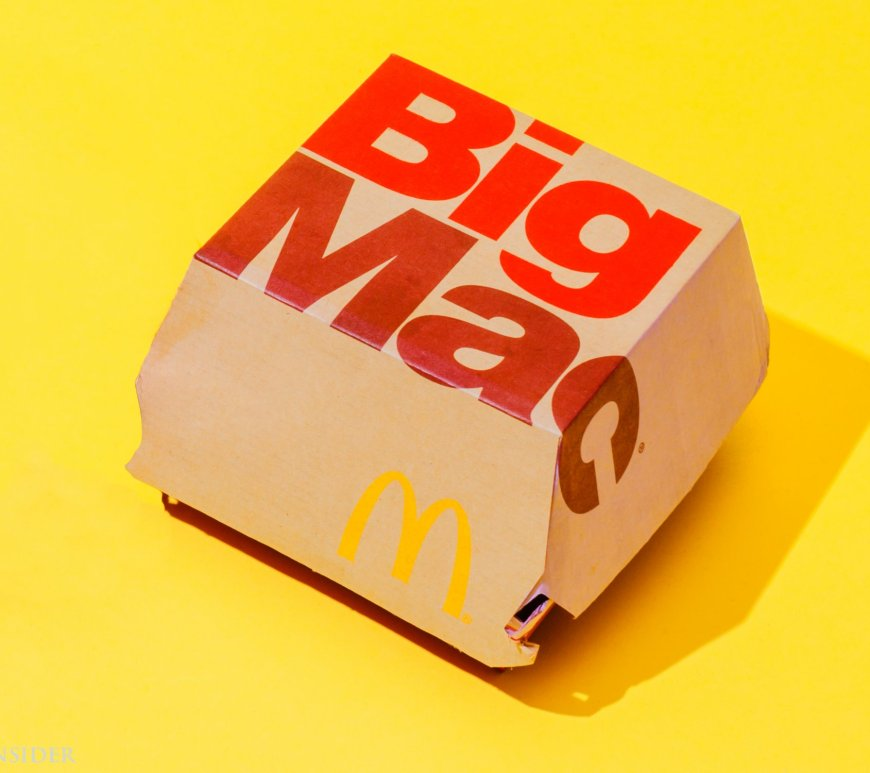mcdonalds: (331, 465, 474, 622)
